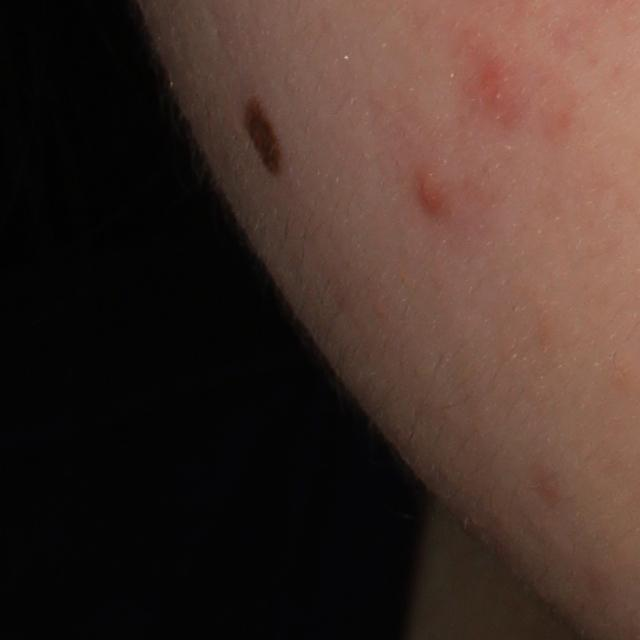nevus: (238, 90, 289, 185)
papule: (411, 163, 453, 224)
